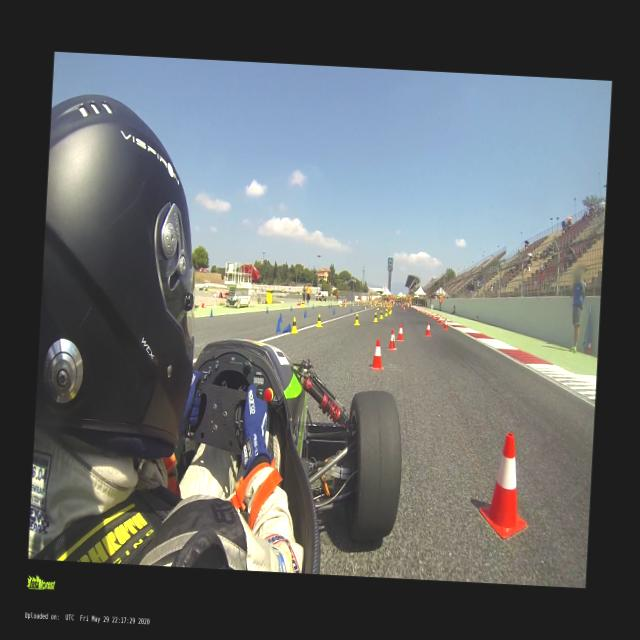blue_cone: (282, 324, 292, 334), (278, 312, 283, 324), (276, 320, 280, 333), (209, 309, 213, 318), (304, 309, 308, 318), (332, 308, 336, 315), (290, 305, 293, 311), (266, 306, 268, 314), (350, 307, 352, 313)
orange_cone: (477, 431, 532, 540), (370, 340, 384, 370), (387, 329, 397, 350), (396, 323, 404, 341), (424, 322, 432, 336), (586, 338, 593, 354), (443, 319, 448, 330), (438, 316, 442, 324), (424, 310, 428, 316), (202, 303, 206, 308), (436, 314, 439, 320), (296, 301, 299, 306), (432, 312, 434, 318), (403, 306, 405, 312), (299, 302, 302, 306), (416, 308, 418, 313), (428, 311, 430, 316)
yellow_cone: (290, 317, 298, 333), (354, 313, 361, 325), (316, 314, 322, 327), (373, 312, 378, 322), (379, 310, 384, 319), (385, 310, 388, 316), (388, 308, 391, 314), (385, 306, 388, 311), (344, 302, 347, 306), (340, 302, 342, 307), (302, 302, 304, 306)
